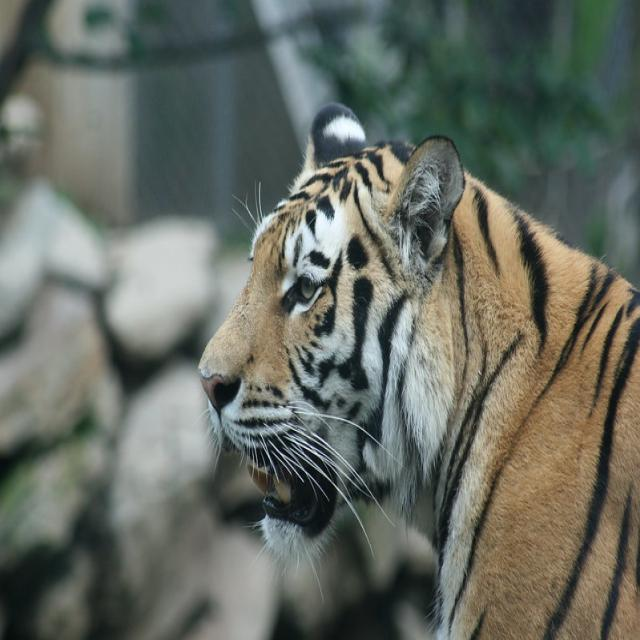Tiger: (196, 99, 638, 635)
